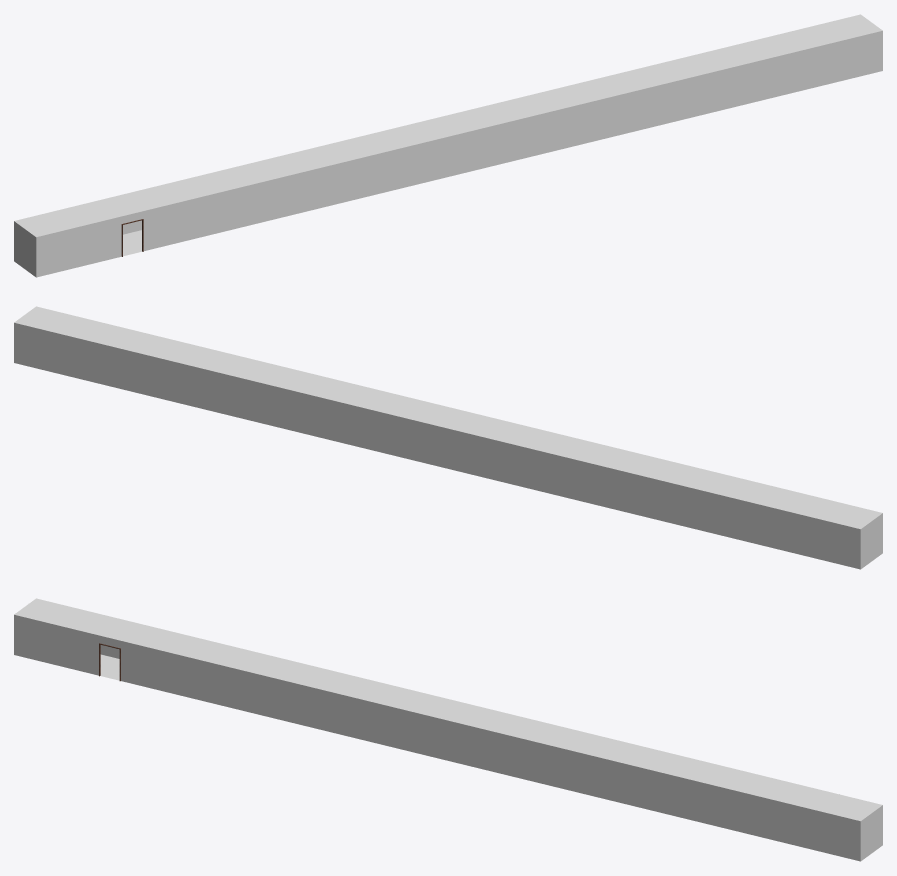
Rendered from grandplayareaexit.fbx.
The picture shows the model from 3 angles, top to bottom: view 1: azimuth 30°, elevation 25°; view 2: azimuth 150°, elevation 25°; view 3: azimuth 330°, elevation 25°; orthographic projection.
Parts seen in each view (by area): view 1: Grand Play Area Exit; view 2: Grand Play Area Exit; view 3: Grand Play Area Exit.
Part boxes in pixels (x1,y1,x2,y2): Grand Play Area Exit: (14, 14, 882, 277); Grand Play Area Exit: (14, 306, 882, 569); Grand Play Area Exit: (14, 598, 882, 861).
Size of the model in its own units: 68.75 by 3.2 by 3.13.
3 materials, 1 textured.
